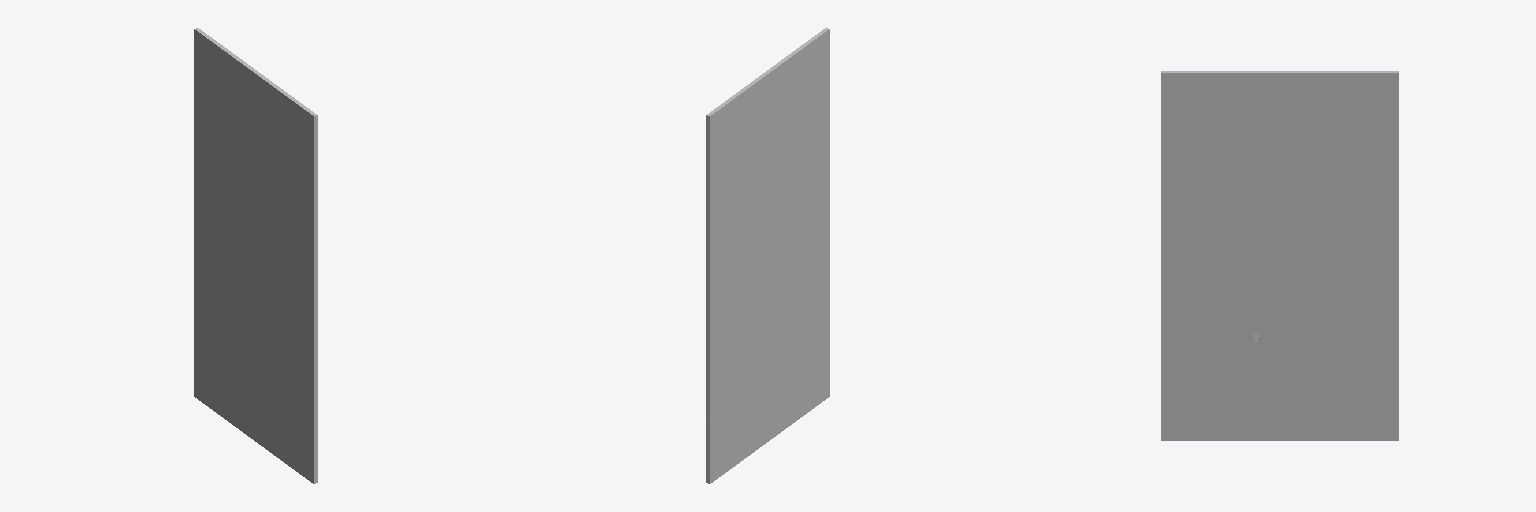
The picture shows the model from 3 angles: view 1: azimuth 30°, elevation 25°; view 2: azimuth 150°, elevation 25°; view 3: azimuth 270°, elevation 25°; orthographic projection.
Parts seen in each view (by area): view 1: back14_zoetrope.723; view 2: back14_zoetrope.723; view 3: back14_zoetrope.723.
Part boxes in pixels (x1,y1,x2,y2): back14_zoetrope.723: (194,28,317,483); back14_zoetrope.723: (706,28,829,483); back14_zoetrope.723: (1161,71,1398,440).
Size of the model in its own units: 0.0109 by 0.9246 by 0.5439.